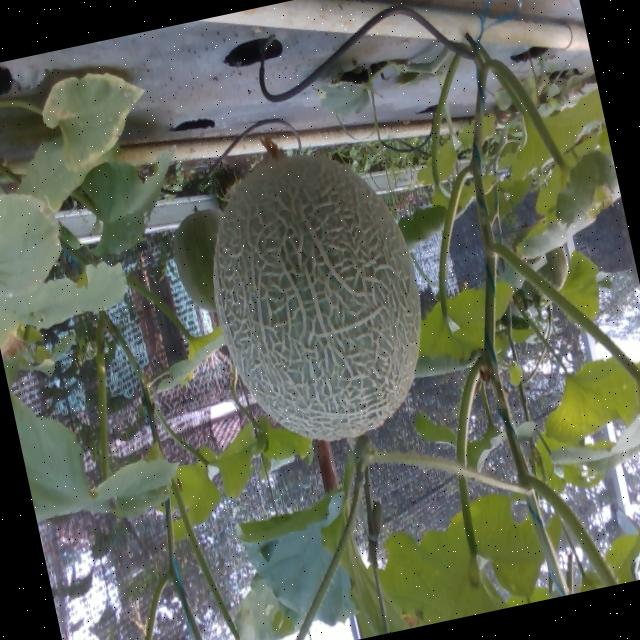melon: (211, 153, 419, 440)
